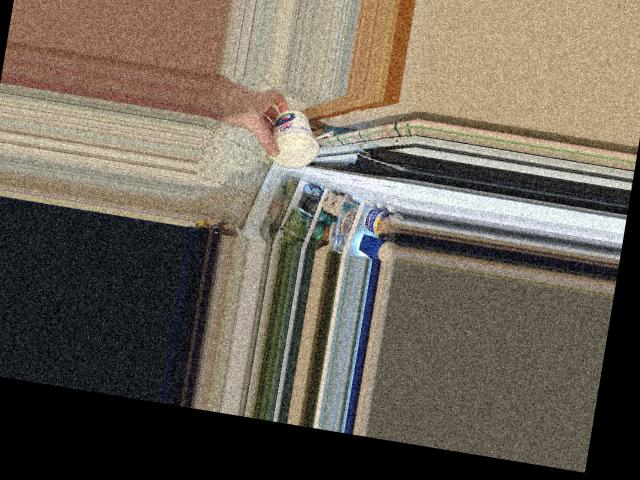cotage: (265, 106, 321, 166)
